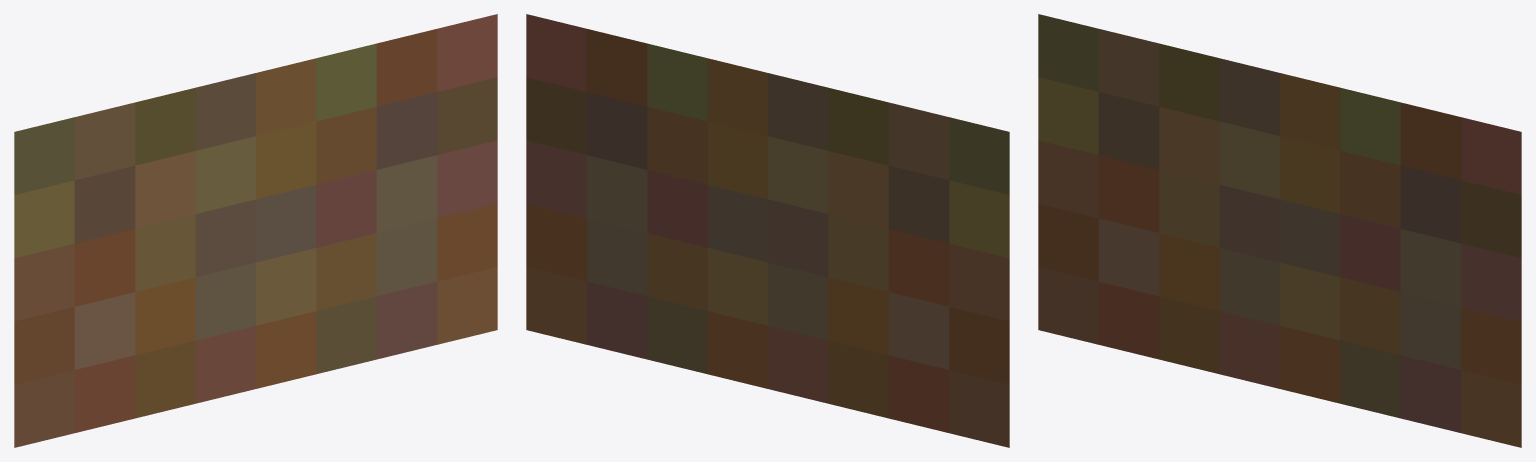
Rendered from GroundTest.fbx.
3 renders of one model, left to right at view 1: azimuth 30°, elevation 25°; view 2: azimuth 150°, elevation 25°; view 3: azimuth 330°, elevation 25°, orthographic.
Visible parts, largest first — view 1: GroundTest; view 2: GroundTest; view 3: GroundTest.
Part boxes in pixels (x1,y1,x2,y2): GroundTest: [14, 14, 497, 447]; GroundTest: [526, 14, 1009, 447]; GroundTest: [1038, 14, 1521, 447].
Size of the model in its own units: 208 by 130 by 0.
